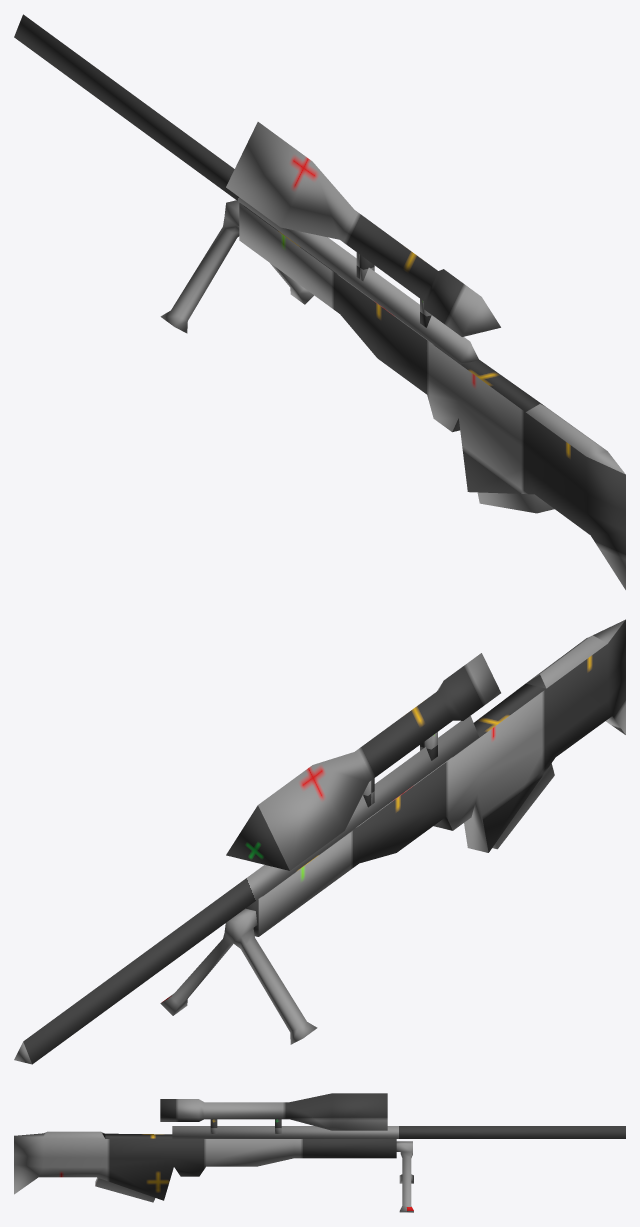
3 views of the same model, one above another, from view 1: azimuth 30°, elevation 25°; view 2: azimuth 150°, elevation 25°; view 3: azimuth 270°, elevation 25° (orthographic). The views are drawn at different scales.
Parts seen in each view (by area): view 1: Base, Scope, Barrel, Stand, Magazine; view 2: Base, Scope, Barrel, Stand, Magazine; view 3: Base, Scope, Barrel, Stand, Magazine.
Boxes of the visible parts, <box> form: Base: <box>239,203,625,589</box>; Scope: <box>226,122,500,336</box>; Barrel: <box>14,14,478,364</box>; Stand: <box>160,200,313,333</box>; Magazine: <box>477,492,554,513</box>; Base: <box>246,619,625,936</box>; Scope: <box>226,653,500,870</box>; Barrel: <box>14,716,478,1064</box>; Stand: <box>160,908,317,1044</box>; Magazine: <box>492,763,554,849</box>; Base: <box>14,1131,396,1200</box>; Scope: <box>160,1093,387,1130</box>; Barrel: <box>172,1126,625,1138</box>; Stand: <box>396,1141,413,1212</box>; Magazine: <box>95,1177,155,1202</box>.
Bounding box in the file's own units: 0.2522 × 0.3552 × 1.84.
Materials: 5 (5 with a texture image).
